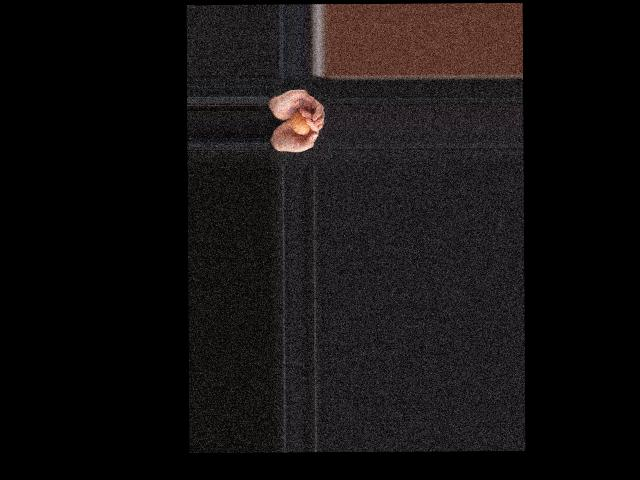egg: (290, 110, 310, 134)
